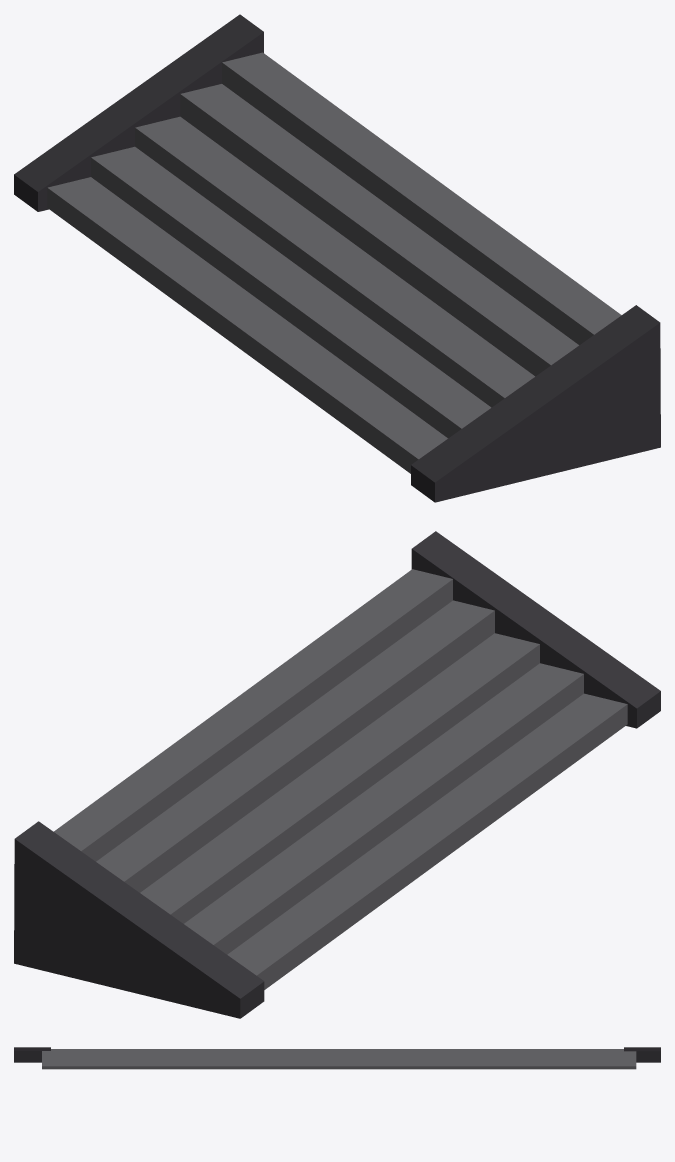
File: steps01.fbx
3 views of the same model, one above another, from view 1: azimuth 30°, elevation 25°; view 2: azimuth 150°, elevation 25°; view 3: azimuth 270°, elevation 25° (orthographic). The views are drawn at different scales.
Visible parts, largest first — view 1: steps01; view 2: steps01; view 3: steps01.
Part boxes in pixels (x1,y1,x2,y2): steps01: (14,14,660,502); steps01: (14,531,660,1018); steps01: (14,1047,660,1069).
Size of the model in its own units: 185 by 97.83 by 597.
